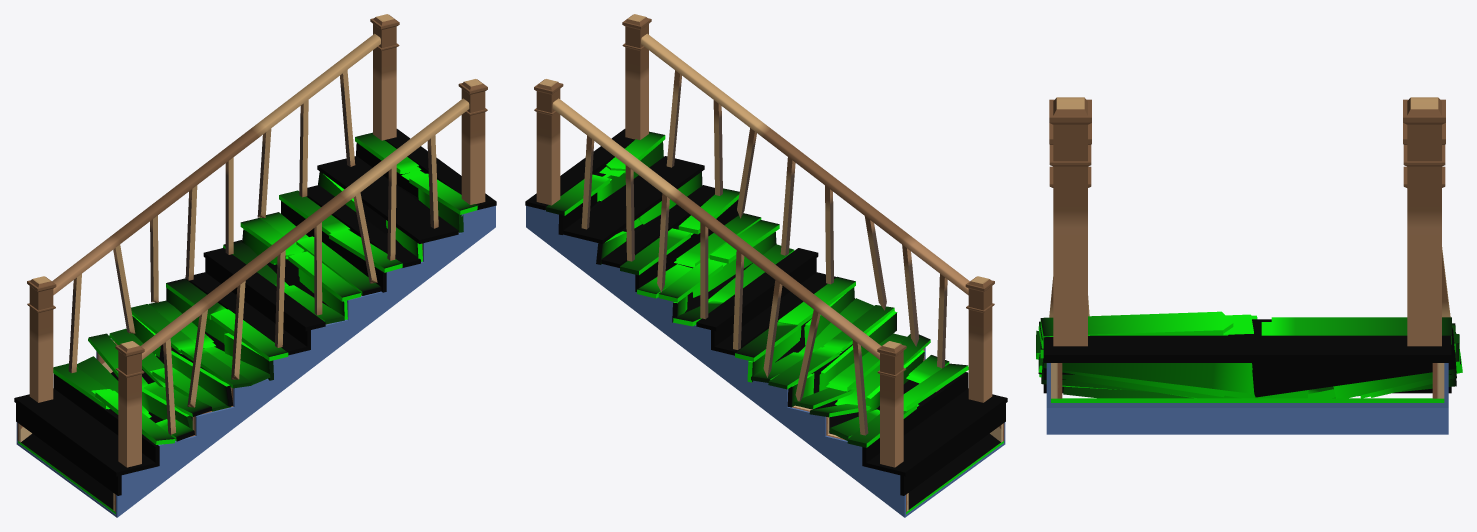
The model's file is DBK_Stairs_Wood_Short_Damage.FBX.
The picture shows the model from 3 angles, left to right: view 1: azimuth 30°, elevation 25°; view 2: azimuth 150°, elevation 25°; view 3: azimuth 270°, elevation 25°; orthographic projection. The views are drawn at different scales.
Visible parts, largest first — view 1: DBK_Stairs_Wood_Short_Damage, DBK_Stairs_Wood_Short_Damage_Rail_L, DBK_Stairs_Wood_Short_Damage_Rail_R, DBK_Stairs_Wood_Short_Damage_Drywall, DBK_Stairs_Wood_Short_Plywood; view 2: DBK_Stairs_Wood_Short_Damage, DBK_Stairs_Wood_Short_Damage_Rail_R, DBK_Stairs_Wood_Short_Damage_Rail_L, DBK_Stairs_Wood_Short_Damage_Drywall, DBK_Stairs_Wood_Short_Plywood; view 3: DBK_Stairs_Wood_Short_Damage, DBK_Stairs_Wood_Short_Damage_Drywall, DBK_Stairs_Wood_Short_Damage_Rail_L, DBK_Stairs_Wood_Short_Damage_Rail_R, DBK_Stairs_Wood_Short_Plywood, DBK_Stairs_Wood_Short_Damage_Support.
Boxes of the visible parts, left/top/right/bottom form: DBK_Stairs_Wood_Short_Damage: left=14, top=129, right=496, bottom=495; DBK_Stairs_Wood_Short_Damage_Rail_L: left=27, top=14, right=399, bottom=402; DBK_Stairs_Wood_Short_Damage_Rail_R: left=115, top=79, right=487, bottom=467; DBK_Stairs_Wood_Short_Damage_Drywall: left=16, top=205, right=495, bottom=517; DBK_Stairs_Wood_Short_Plywood: left=18, top=170, right=429, bottom=514; DBK_Stairs_Wood_Short_Damage: left=525, top=129, right=1007, bottom=495; DBK_Stairs_Wood_Short_Damage_Rail_R: left=622, top=14, right=994, bottom=402; DBK_Stairs_Wood_Short_Damage_Rail_L: left=534, top=79, right=906, bottom=467; DBK_Stairs_Wood_Short_Damage_Drywall: left=526, top=205, right=1005, bottom=517; DBK_Stairs_Wood_Short_Plywood: left=590, top=166, right=1003, bottom=514; DBK_Stairs_Wood_Short_Damage: left=1036, top=311, right=1462, bottom=398; DBK_Stairs_Wood_Short_Damage_Drywall: left=1046, top=363, right=1448, bottom=434; DBK_Stairs_Wood_Short_Damage_Rail_L: left=1403, top=97, right=1450, bottom=346; DBK_Stairs_Wood_Short_Damage_Rail_R: left=1049, top=97, right=1091, bottom=346; DBK_Stairs_Wood_Short_Plywood: left=1051, top=398, right=1444, bottom=402; DBK_Stairs_Wood_Short_Damage_Support: left=1051, top=363, right=1444, bottom=398.
Size of the model in its own units: 301 by 259 by 146.
